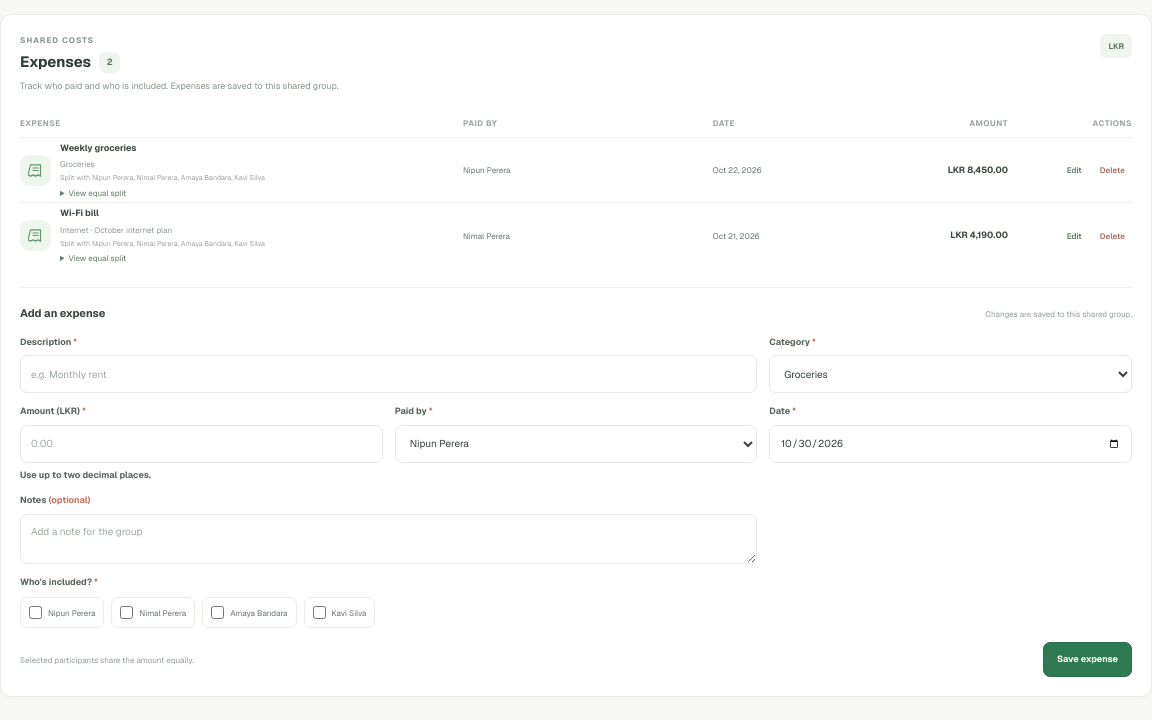
management screens in Supabase mode › shows saved expense messaging and reports a successful save
Check: the text "Track who paid and who is included. Expenses are saved to this shared group." is shown, box [20, 80, 339, 93]
Check: the text "Changes are saved to this shared group." is shown, box [985, 308, 1132, 320]
Step 1. Type "Cleaning supplies" into the field labelled "Description *" → point(389, 374), box [20, 355, 757, 393]
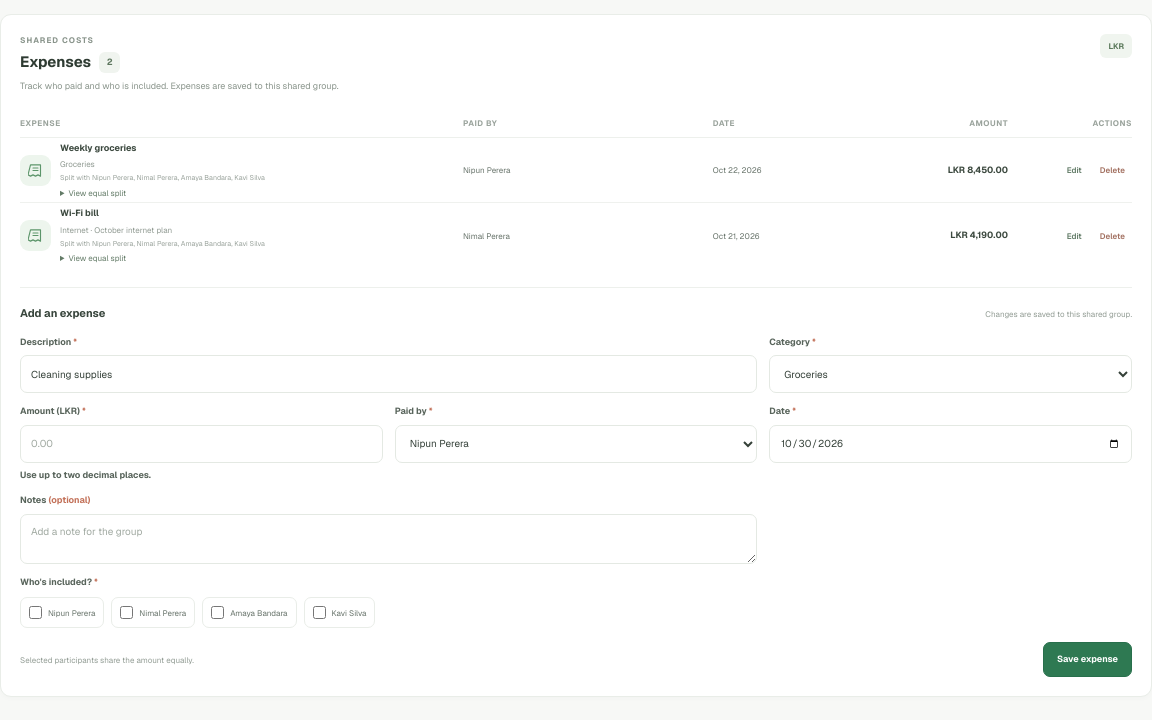
Step 2. Type "125.50" into the field labelled "Amount (LKR) * Use up to two decimal places." → point(201, 444), box [20, 425, 383, 463]
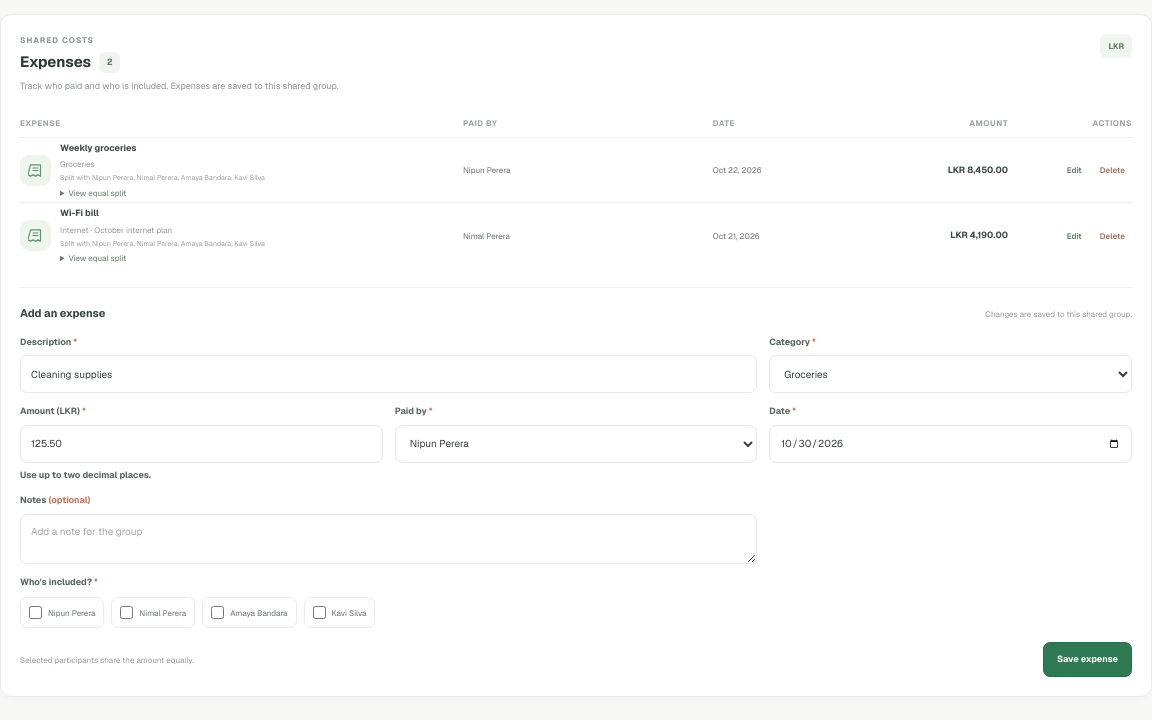
Step 3. Click the checkbox labelled "Nipun Perera" → point(36, 613), box [29, 606, 42, 619]
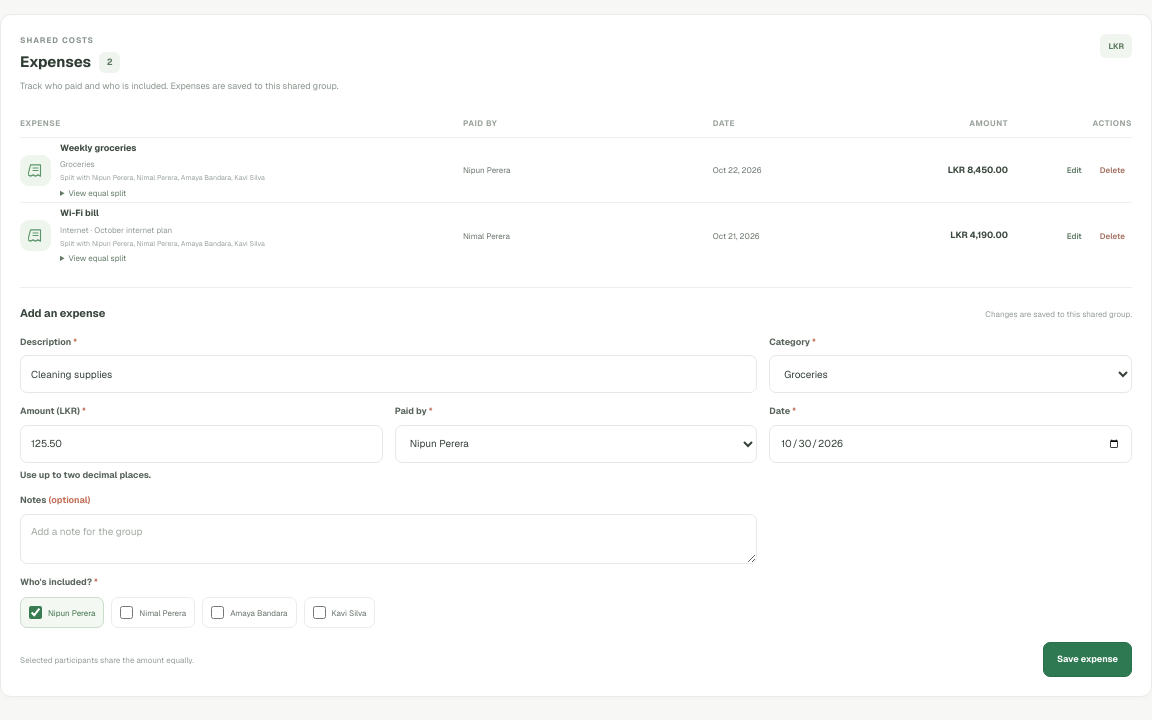
Step 4. Click the button "Save expense" → point(1087, 660), box [1043, 642, 1132, 677]
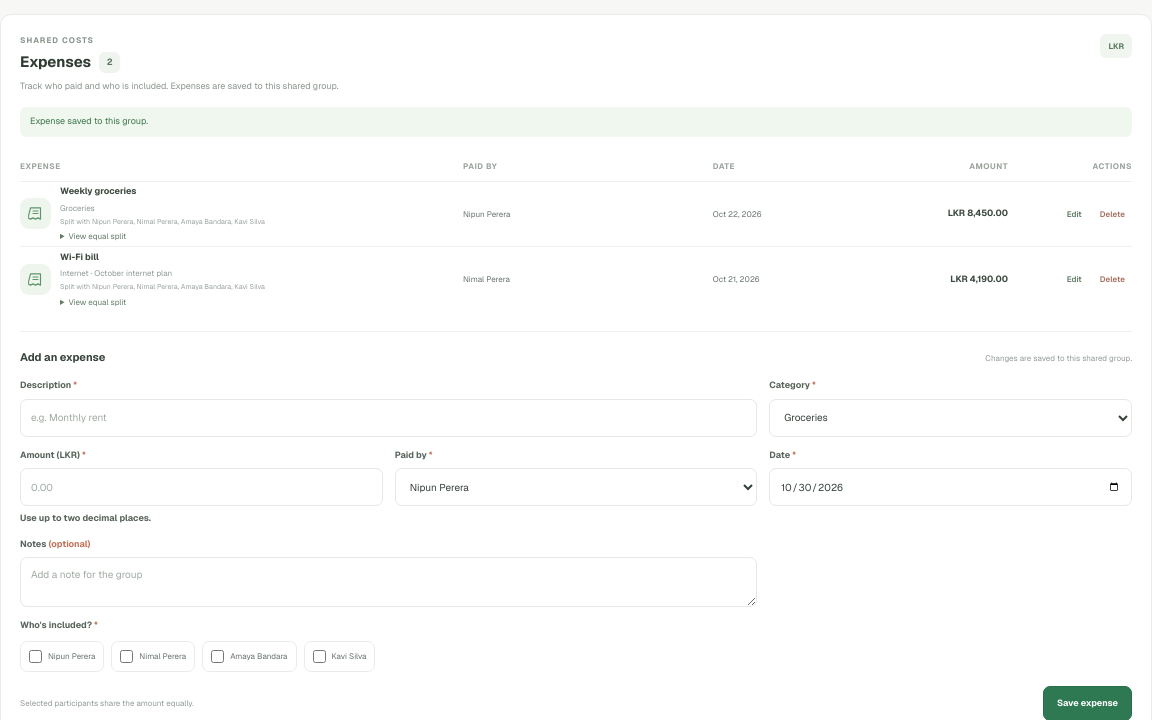
Check: the message reads "Expense saved to this group.", box [30, 115, 148, 127]
